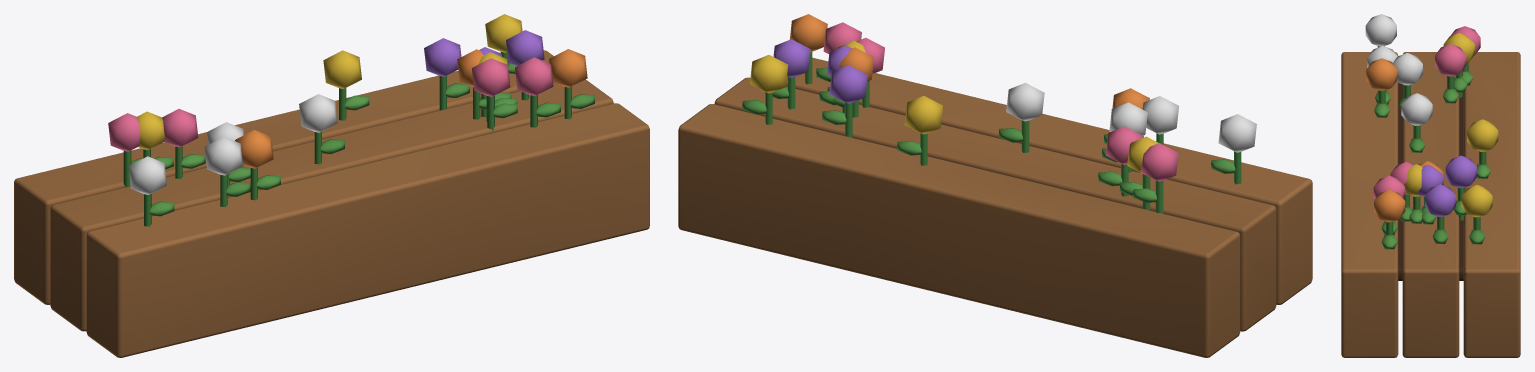
Rendered from furn_dp_planter.glb.
The picture shows the model from 3 angles, left to right: view 1: azimuth 30°, elevation 25°; view 2: azimuth 150°, elevation 25°; view 3: azimuth 270°, elevation 25°; orthographic projection. The views are drawn at different scales.
Visible parts, largest first — view 1: furn_dp_planter_main; view 2: furn_dp_planter_main; view 3: furn_dp_planter_main.
Part boxes in pixels (x1,y1,x2,y2): furn_dp_planter_main: (14, 14, 649, 357); furn_dp_planter_main: (678, 14, 1312, 357); furn_dp_planter_main: (1341, 14, 1520, 357).
Bounding box in the file's own units: 1.7 × 0.53 × 0.586.
